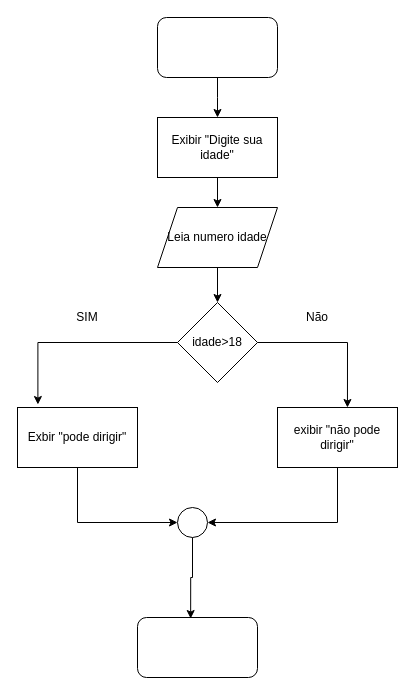
Some shapes in this 415 by 695 pixel diagram are drawn without their labels. The centre of each missing label's shape, as x and y in pixels:
"fim" belongs at (x=197, y=647).
"inicio" belongs at (x=217, y=47).
